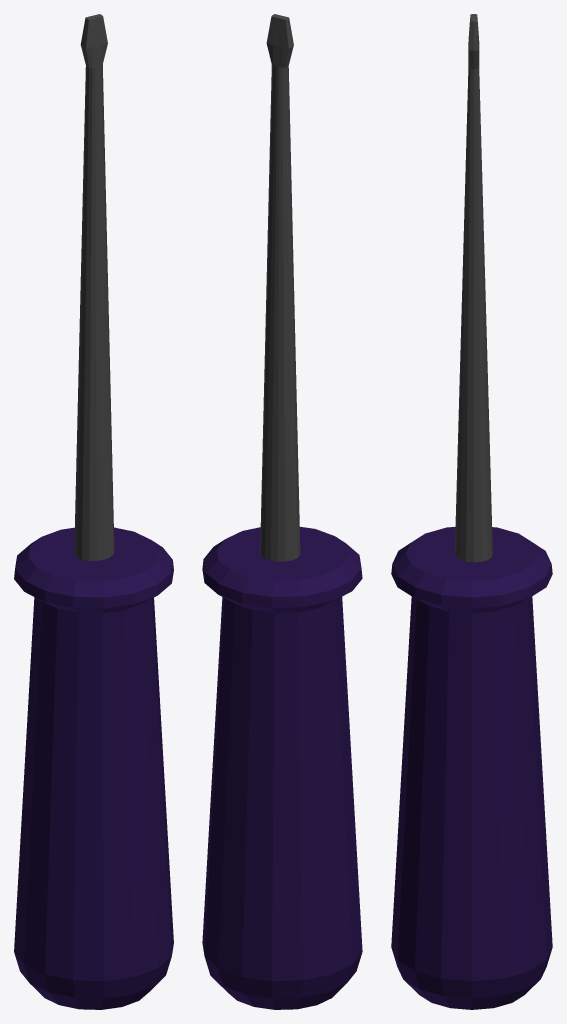
File: ScrewDriver.fbx
3 renders of one model, left to right at view 1: azimuth 30°, elevation 25°; view 2: azimuth 150°, elevation 25°; view 3: azimuth 270°, elevation 25°, orthographic.
Visible parts, largest first — view 1: Cylinder.001; view 2: Cylinder.001; view 3: Cylinder.001.
Boxes of the visible parts, <box> form: Cylinder.001: <box>14,14,173,1009</box>; Cylinder.001: <box>202,14,362,1009</box>; Cylinder.001: <box>391,14,552,1009</box>.
Size of the model in its own units: 9.7 by 64.2 by 9.7.
